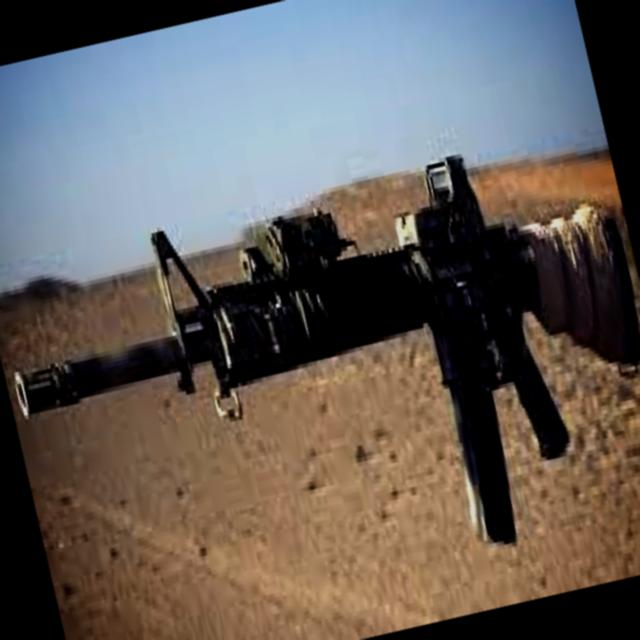m16: (63, 98, 640, 638)
